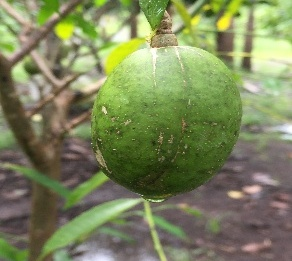Coc: (87, 46, 246, 201)
